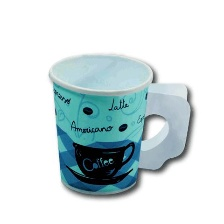paper_cup: (41, 47, 198, 204)
